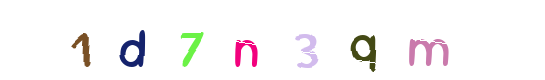1: (94, 0, 174, 80)
3: (233, 0, 313, 80)
7: (205, 0, 285, 80)
D: (151, 0, 231, 80)
M: (330, 0, 410, 80)
N: (221, 0, 301, 80)
Q: (263, 0, 343, 80)
